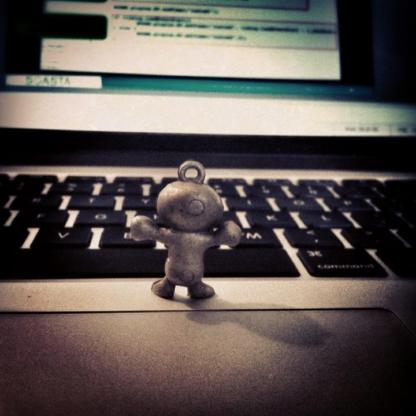board: (2, 0, 416, 386)
